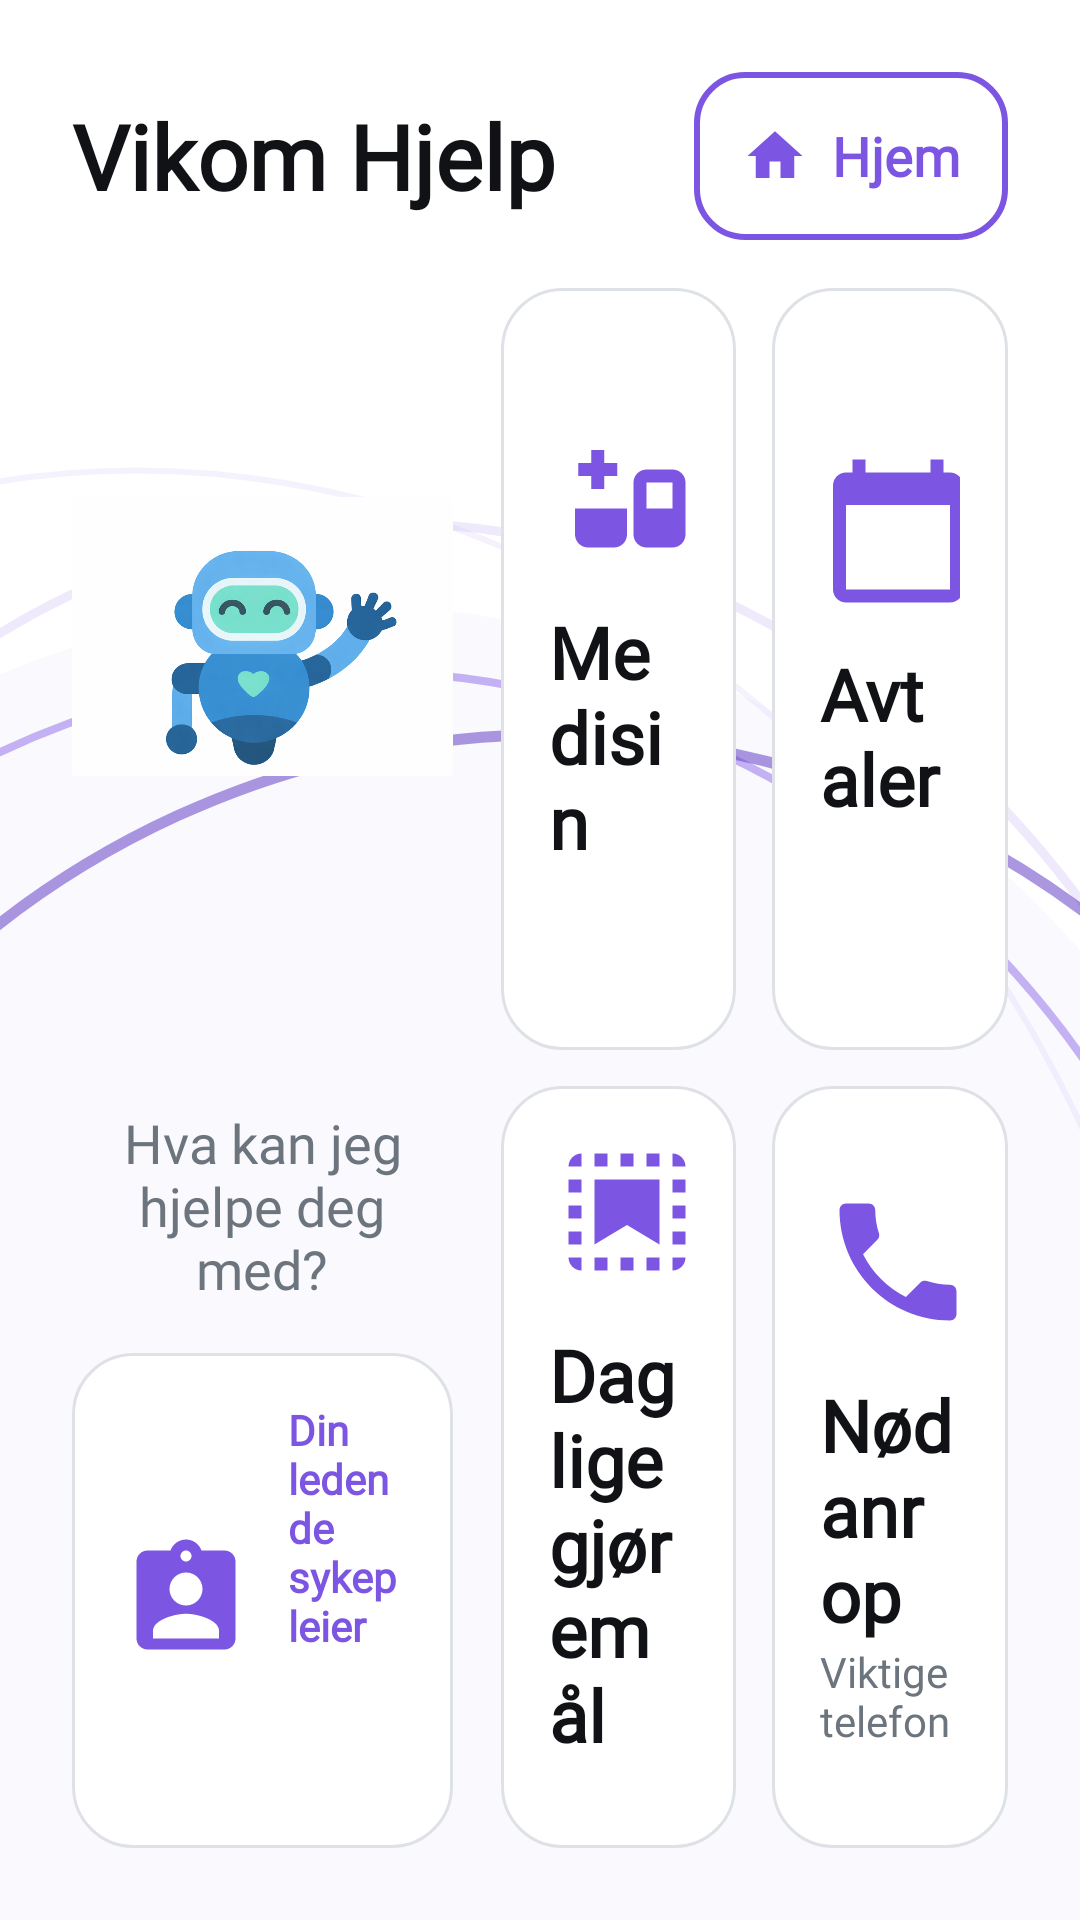

Named icons in this screenshot (1080px×1920px) and their centers, [x,y]:
acc calendar: [896,531]
acc doctor: [186,1594]
acc medicine: [630,499]
acc sos: [898,1262]
ai assistant full: [281,658]
